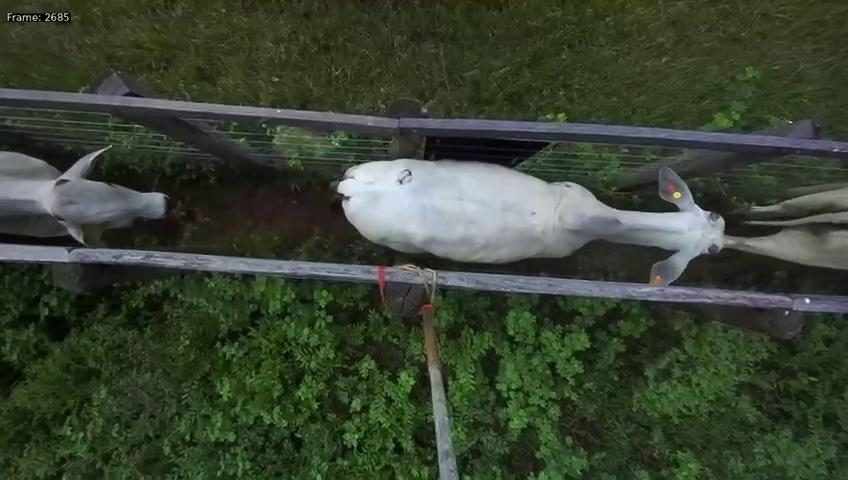cattle: (331, 151, 741, 286), (0, 132, 168, 250)
